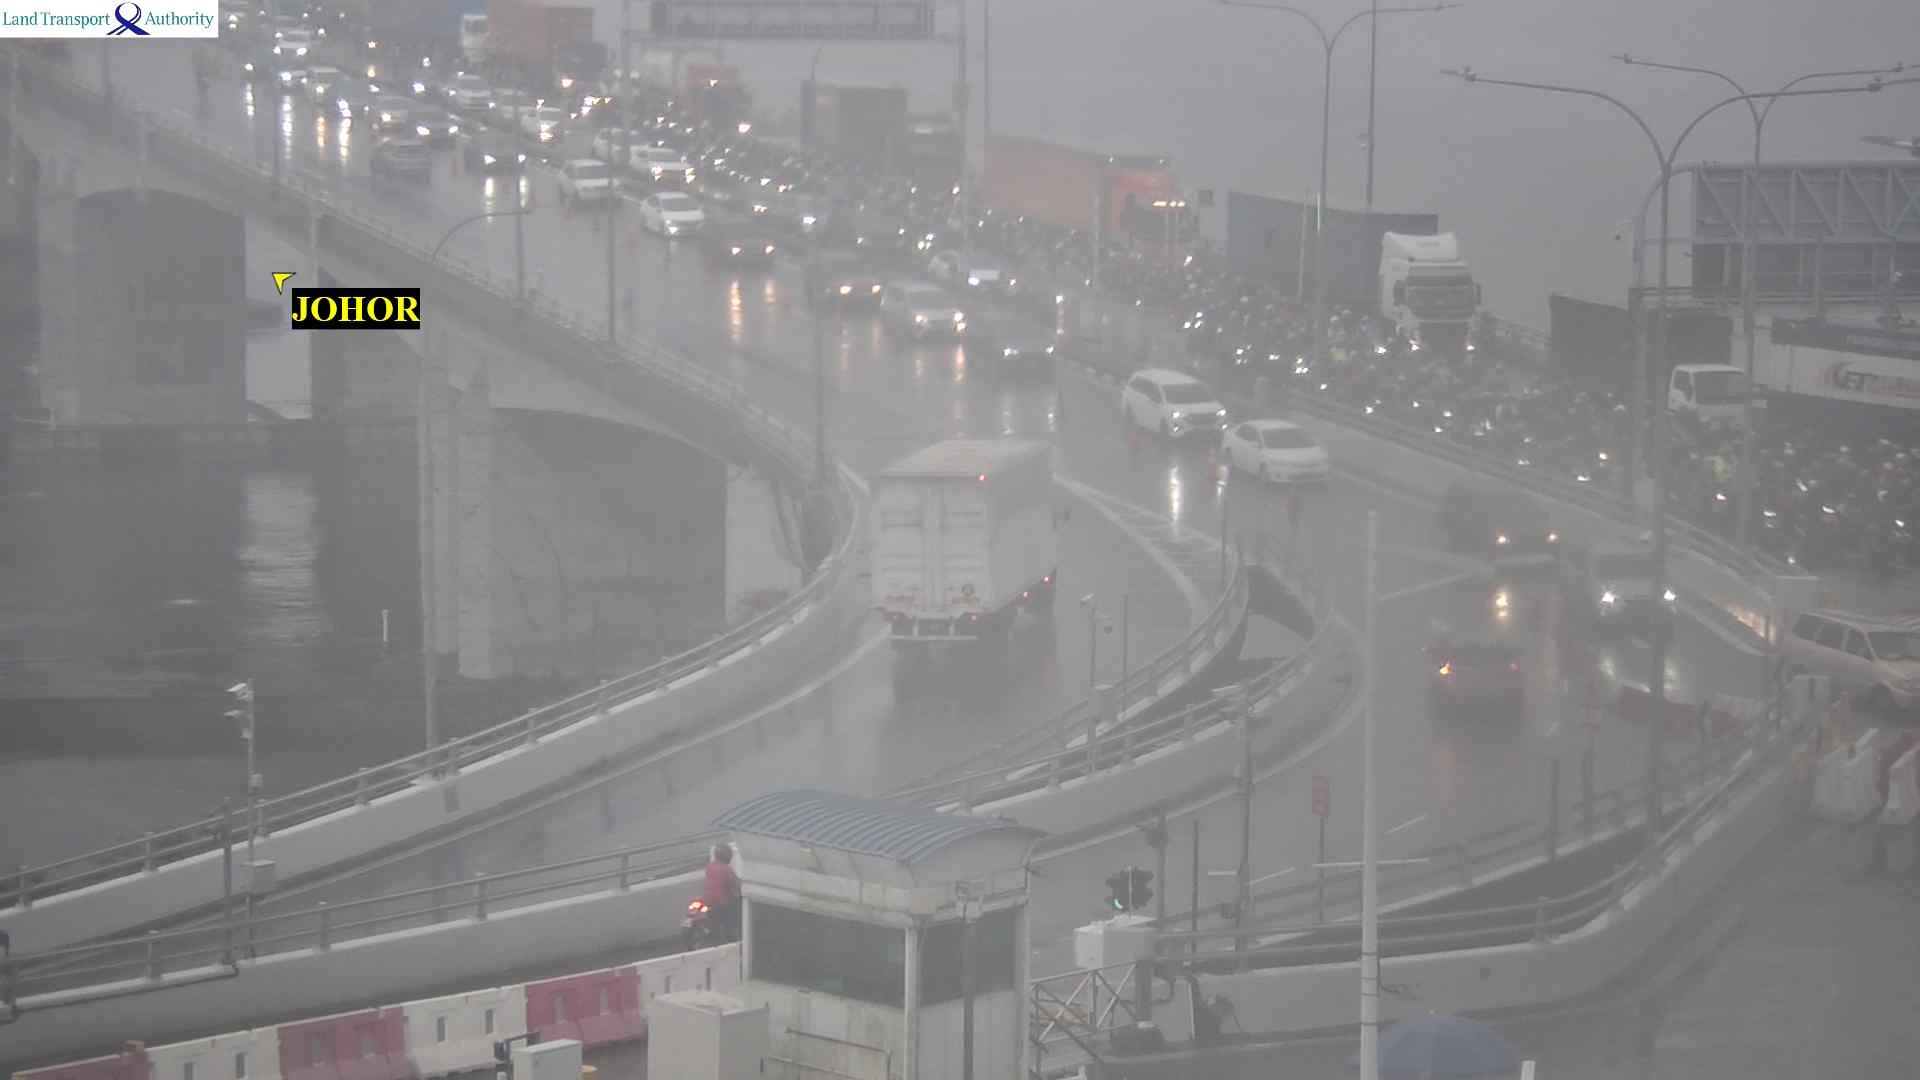vehicle-secondlink-johor: (878, 438, 1058, 659), (1436, 632, 1518, 724), (694, 841, 737, 932), (380, 142, 435, 175)
vehicle-secondlink-singapore: (1226, 194, 1481, 352), (1559, 297, 1747, 430), (994, 138, 1207, 239), (800, 82, 956, 181), (1785, 615, 1920, 707), (489, 1, 604, 95), (1112, 372, 1245, 450), (1581, 537, 1672, 642), (1447, 485, 1553, 568), (1215, 425, 1328, 493), (646, 46, 741, 121), (969, 319, 1055, 382), (650, 194, 729, 245), (885, 285, 957, 340), (711, 220, 781, 273), (462, 136, 538, 181), (628, 194, 713, 232), (808, 257, 872, 303), (559, 158, 621, 204), (332, 82, 386, 116), (369, 96, 422, 131), (713, 225, 767, 258), (405, 107, 456, 140), (303, 66, 349, 100), (277, 29, 315, 58)
